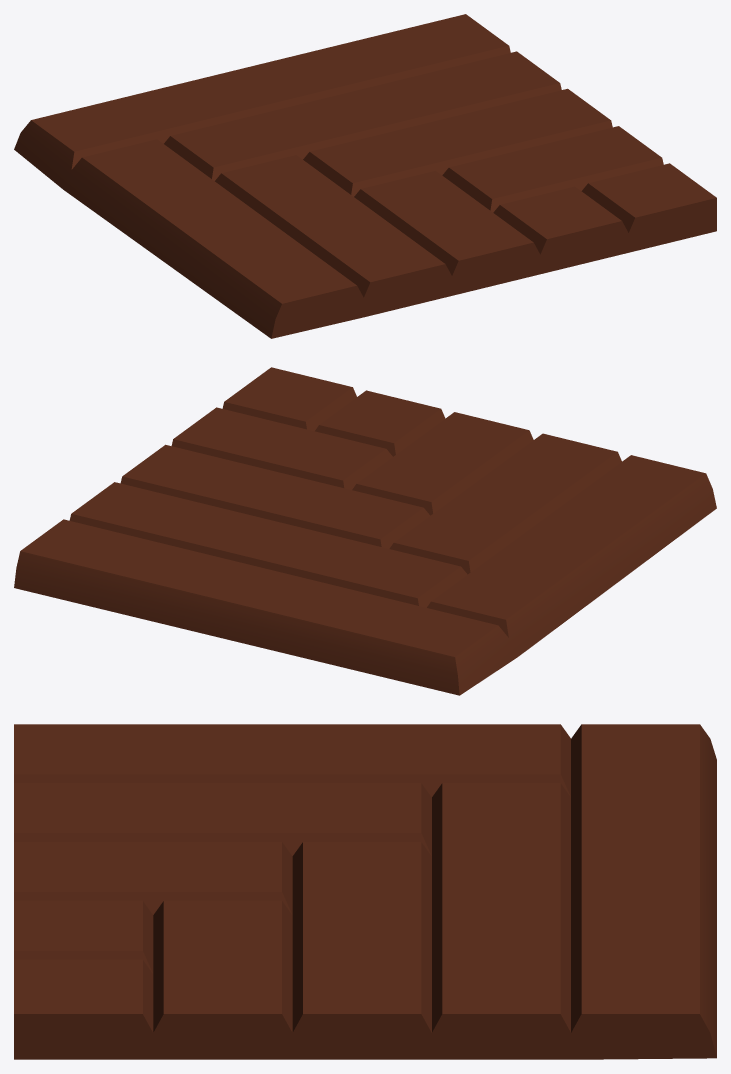
File: Wood_Floor_Corner.fbx
3 renders of one model, top to bottom at view 1: azimuth 30°, elevation 25°; view 2: azimuth 150°, elevation 25°; view 3: azimuth 270°, elevation 25°, orthographic. The views are drawn at different scales.
Visible parts, largest first — view 1: Wood_Floor_corner_LOD0; view 2: Wood_Floor_corner_LOD0; view 3: Wood_Floor_corner_LOD0.
Part boxes in pixels (left/top/right/bottom): Wood_Floor_corner_LOD0: left=14, top=14, right=716, bottom=338; Wood_Floor_corner_LOD0: left=14, top=367, right=716, bottom=695; Wood_Floor_corner_LOD0: left=14, top=724, right=716, bottom=1059.
Size of what is drawn, in the model's own units: 0.0102 by 0.000725 by 0.0101.
